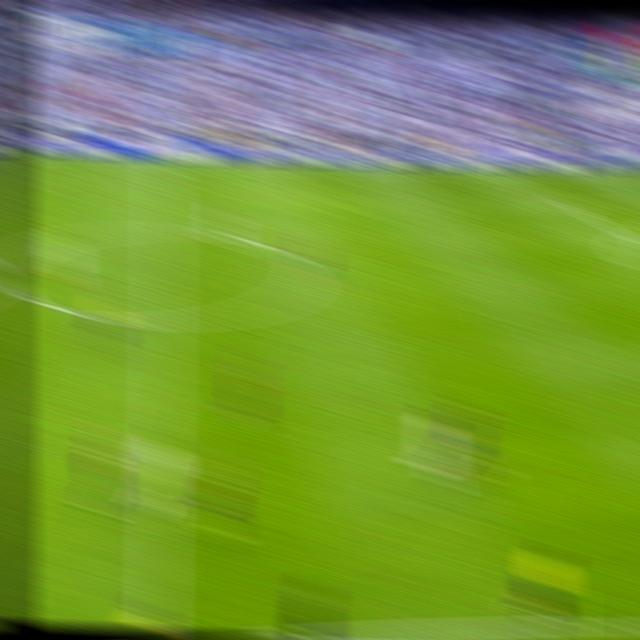halfcircle_bottom: (145, 298, 180, 342)
halfcircle_top: (147, 210, 181, 250)
midline_top_intersection: (148, 154, 179, 178)
top_arc_area_intersection: (623, 229, 640, 251)
